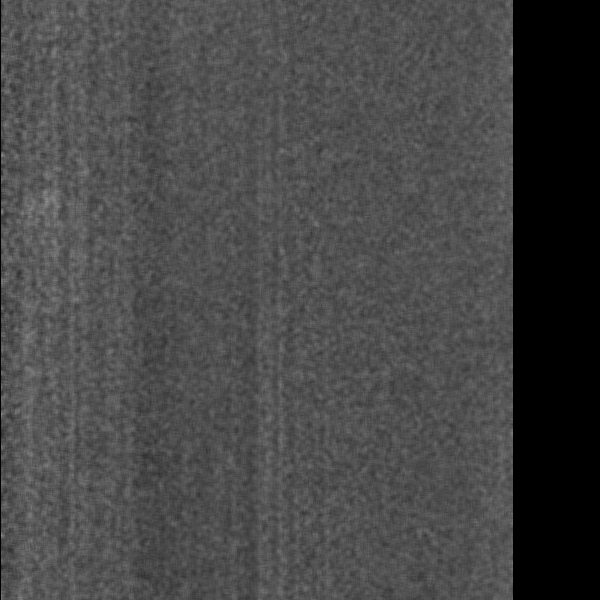spark: (1, 180, 66, 230), (497, 193, 519, 205)
